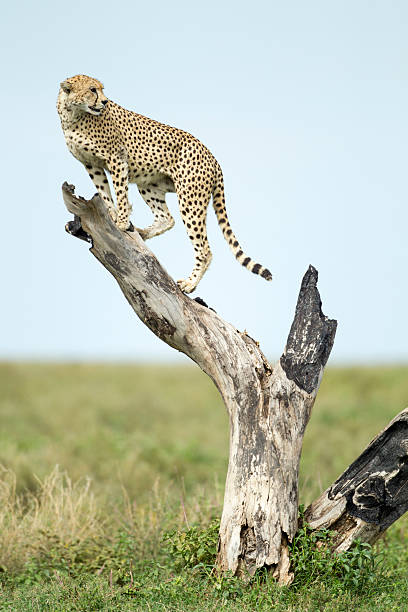cheetah: (53, 69, 117, 115)
